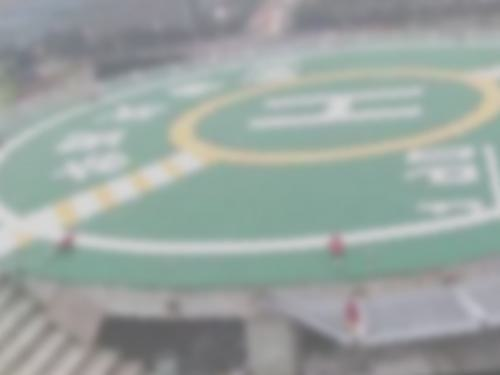Apron: (170, 65, 500, 172)
